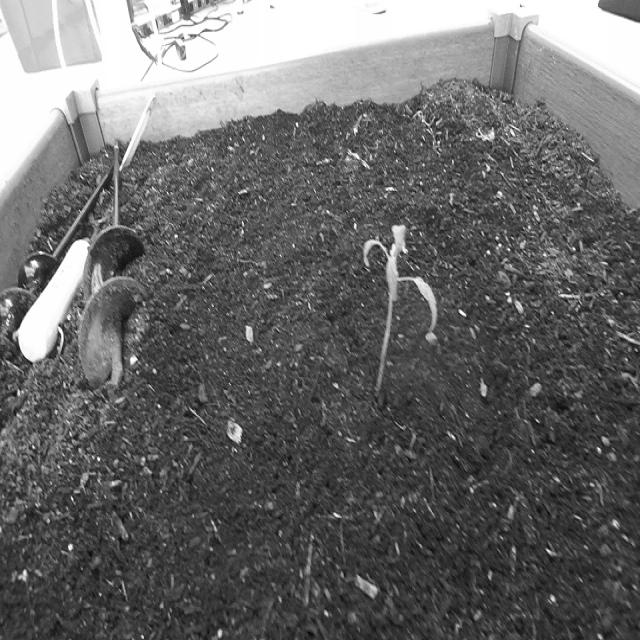Healthy: (358, 220, 442, 402)
